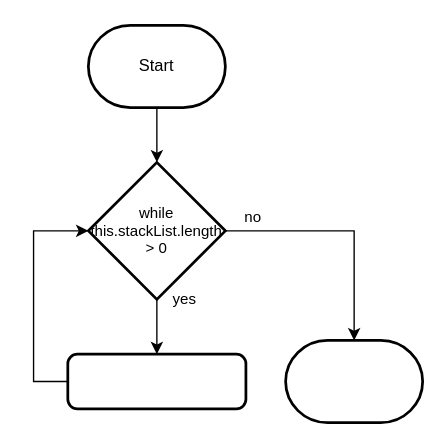
Some shapes in this 448 by 447 pixel diagram are drawn without their labels. Here are the shapes that lost their labels. From the top down, the box of each, then its label:
(66, 352, 247, 410): this.stackList.splice(0, 1)
(284, 338, 423, 423): Stop
